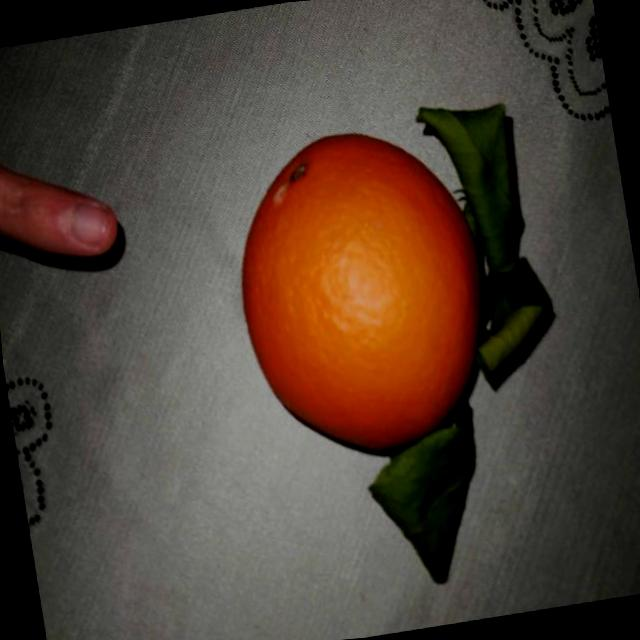Finger: (0, 120, 136, 296)
Orange: (184, 59, 602, 616)
